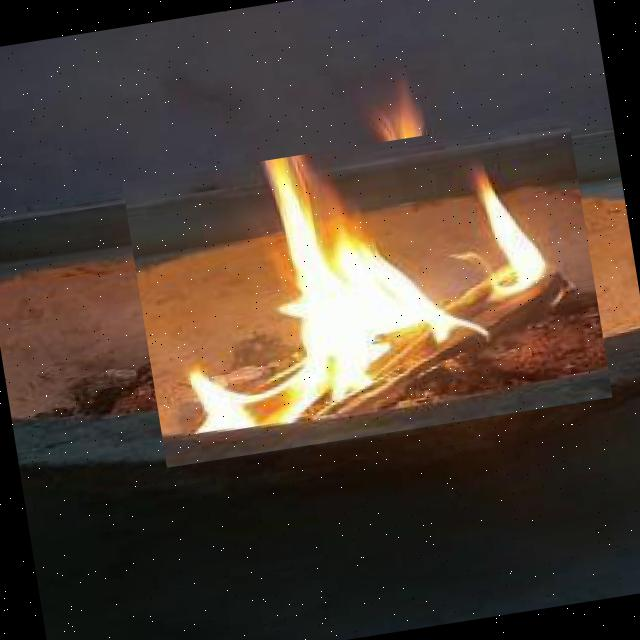fire: (122, 112, 613, 468)
